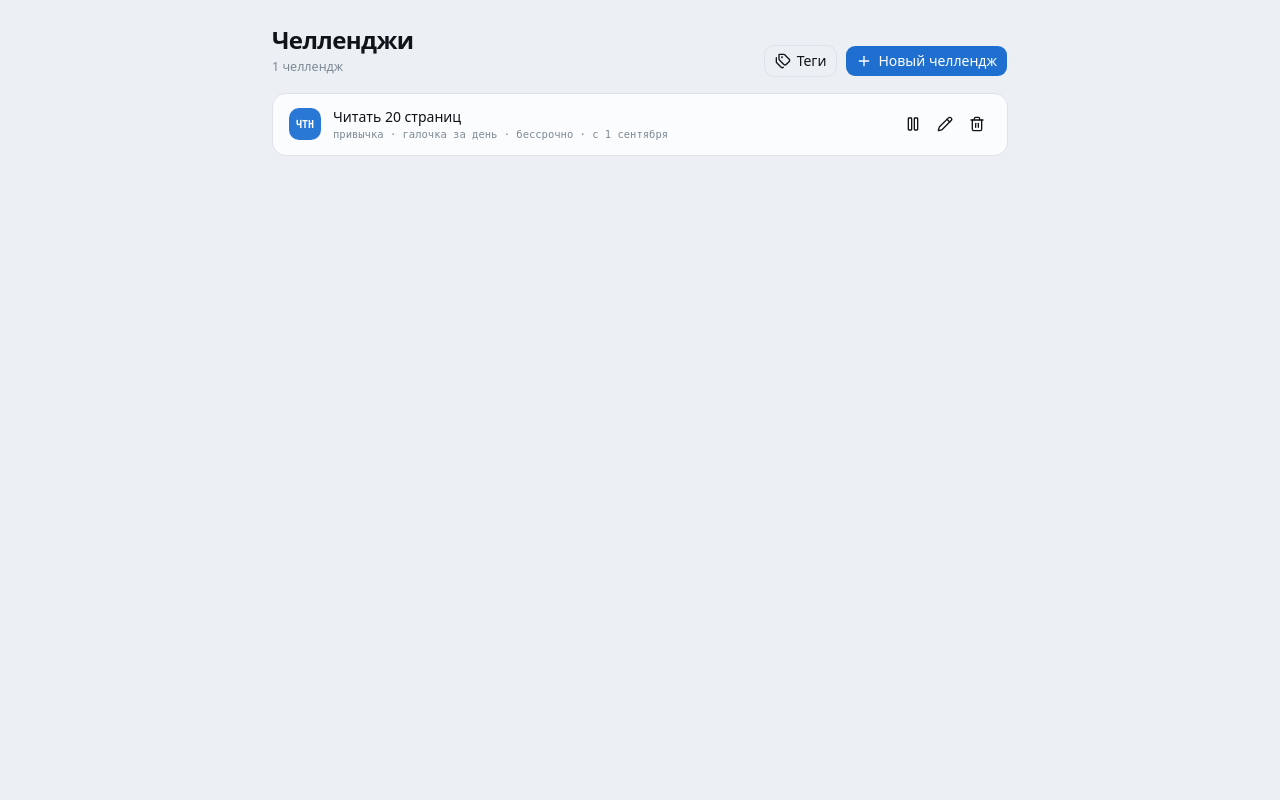
Test: экран челленджей — тип запирается первой отметкой (ревью 5а) › отметок нет — тип можно поправить
Click the button named "Изменить": (945, 124) x1=931 y1=110 x2=959 y2=138
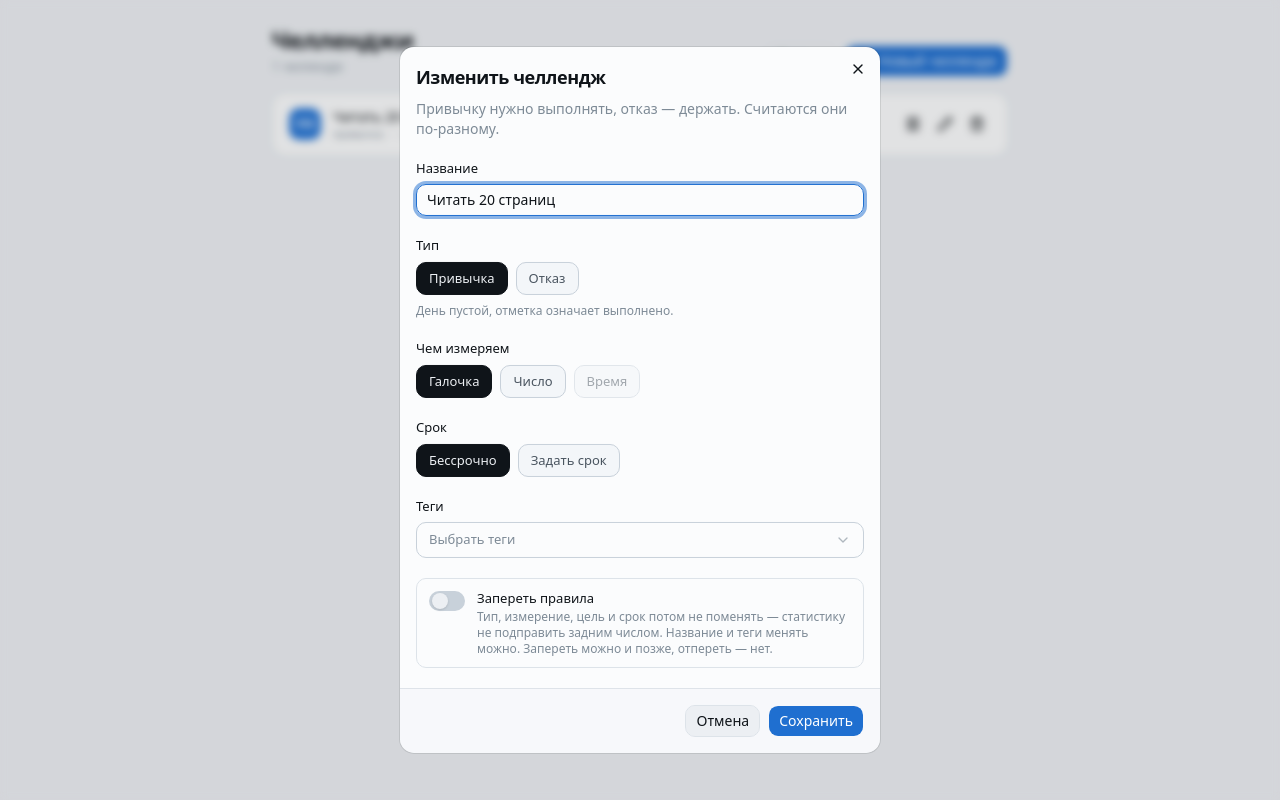
expect the button "Отказ" is enabled: met, box x1=516 y1=262 x2=578 y2=295
